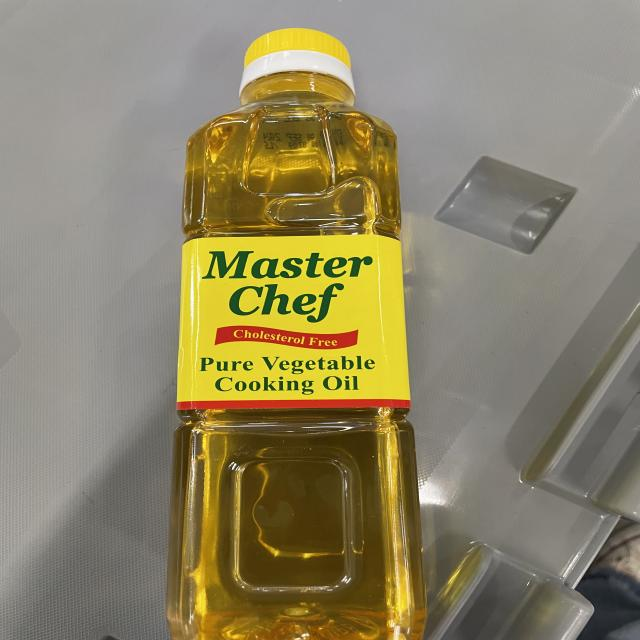object_name: (187, 38, 421, 640)
